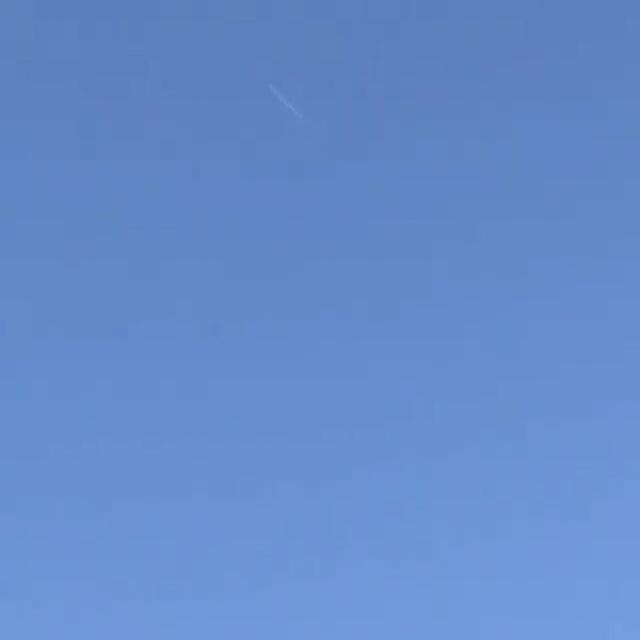AirPlane: (254, 69, 296, 115)
